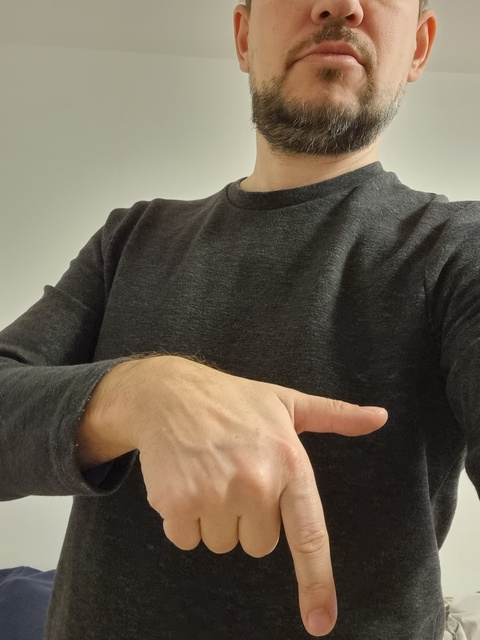GestDown: (162, 385, 388, 637)
